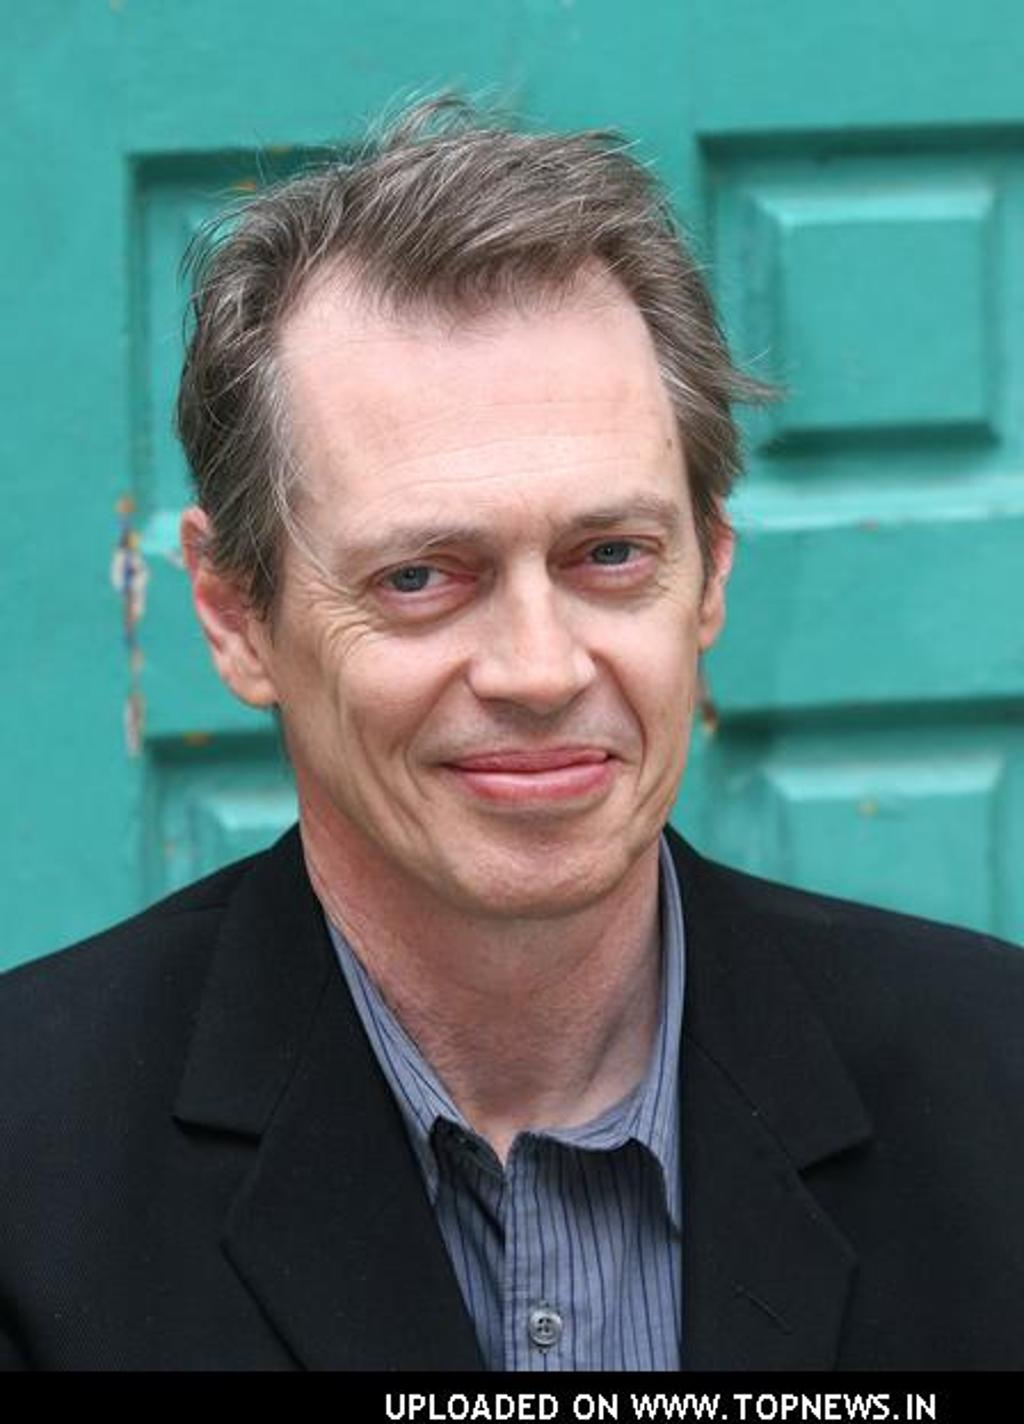face: (301, 270, 704, 902)
